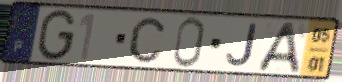0: (172, 15, 207, 70)
1: (78, 13, 97, 62)
A: (255, 21, 302, 74)
C: (127, 16, 167, 65)
G: (35, 8, 79, 63)
J: (224, 22, 259, 69)
